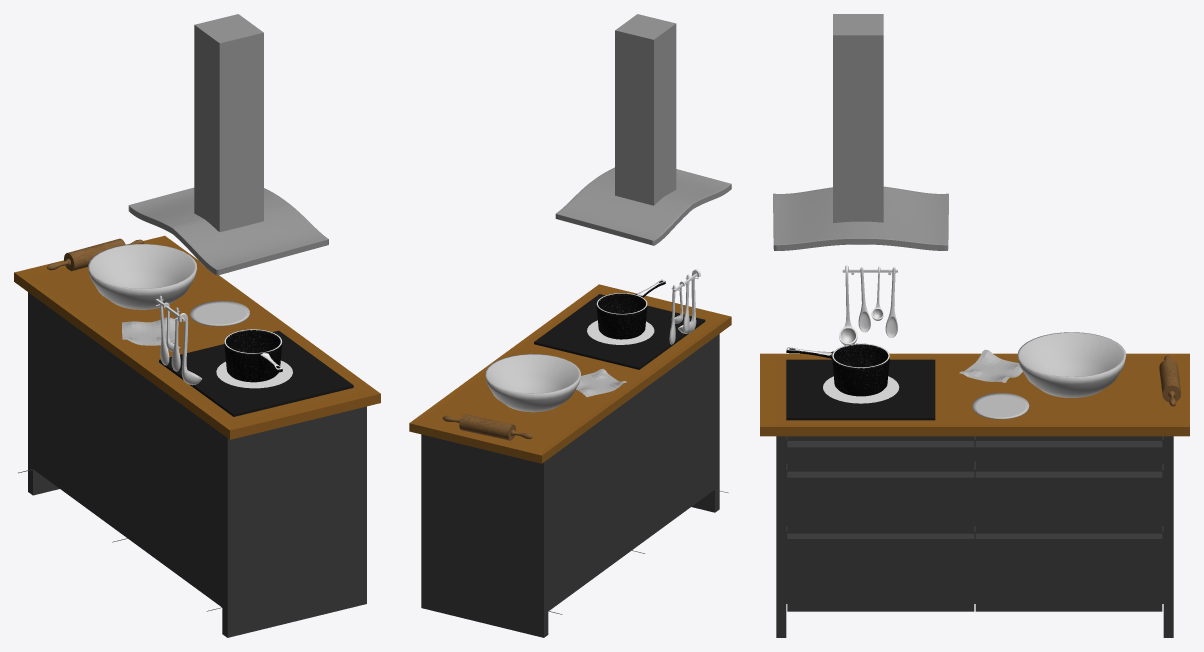
File: stove.glb
3 renders of one model, left to right at view 1: azimuth 30°, elevation 25°; view 2: azimuth 150°, elevation 25°; view 3: azimuth 270°, elevation 25°, orthographic. The views are drawn at different scales.
Visible parts, largest first — view 1: Cube.001, Plan, bowl, pan, Ladles, plate.002, Cube, rolling_pin_rolling_pin; view 2: Cube.001, Plan, bowl, pan, rolling_pin_rolling_pin, Ladles, Cube; view 3: Cube.001, Plan, bowl, pan, Ladles, plate.002, Cube, rolling_pin_rolling_pin.
Boxes of the visible parts, x1,y1,x2,y2 form: Cube.001: [14, 235, 380, 637]; Plan: [128, 14, 328, 275]; bowl: [88, 243, 197, 309]; pan: [224, 329, 282, 382]; Ladles: [155, 295, 201, 385]; plate.002: [190, 301, 249, 326]; Cube: [122, 317, 175, 345]; rolling_pin_rolling_pin: [47, 238, 143, 271]; Cube.001: [409, 284, 731, 637]; Plan: [555, 14, 731, 245]; bowl: [485, 354, 580, 412]; pan: [596, 279, 665, 339]; rolling_pin_rolling_pin: [442, 414, 532, 440]; Ladles: [669, 269, 700, 344]; Cube: [576, 368, 626, 397]; Cube.001: [760, 353, 1189, 637]; Plan: [773, 14, 948, 250]; bowl: [1017, 332, 1126, 397]; pan: [786, 343, 889, 396]; Ladles: [839, 265, 897, 345]; plate.002: [972, 393, 1029, 419]; Cube: [959, 349, 1022, 382]; rolling_pin_rolling_pin: [1159, 355, 1180, 406].
Bounding box in the file's own units: 24.52 × 82.92 × 57.06.
Materials: 11 (4 with a texture image).
